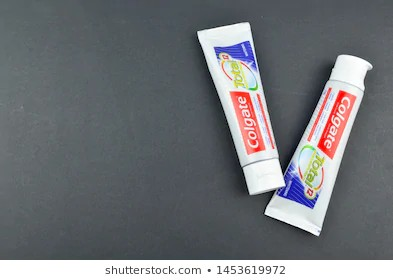colgate-total-150gm: (261, 49, 375, 239), (192, 24, 287, 194)
